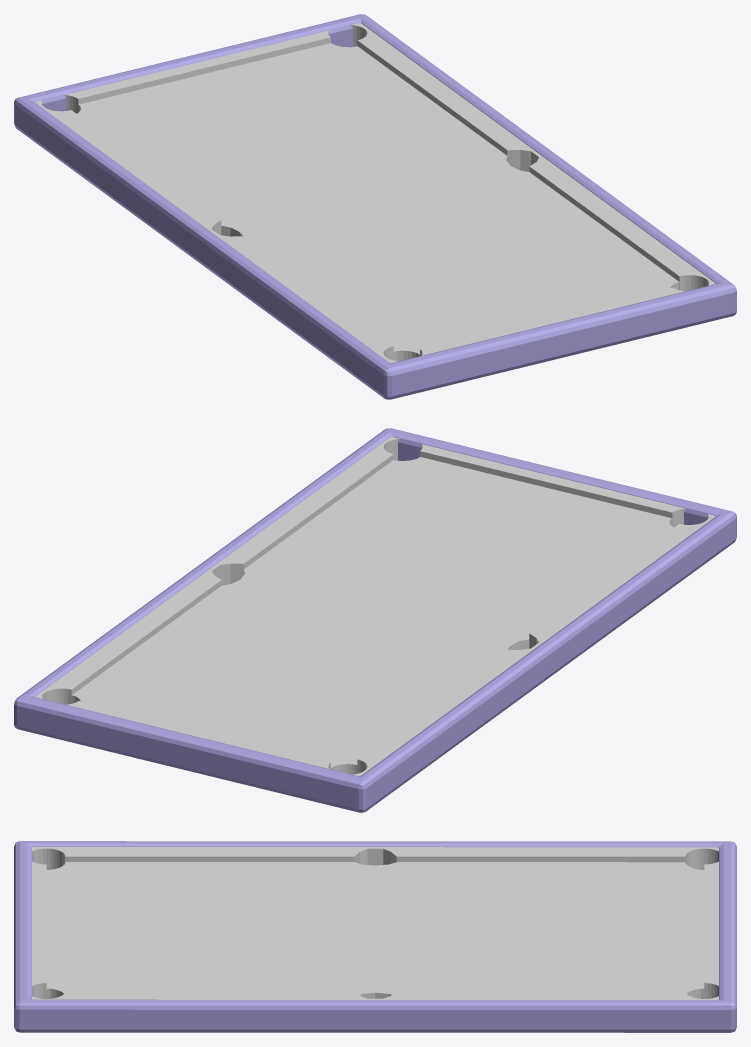
Rendered from BilliardTable.fbx.
The picture shows the model from 3 angles, top to bottom: view 1: azimuth 30°, elevation 25°; view 2: azimuth 150°, elevation 25°; view 3: azimuth 270°, elevation 25°; orthographic projection. The views are drawn at different scales.
Visible parts, largest first — view 1: TableMesh, OutEdgeMesh, Edge; view 2: TableMesh, OutEdgeMesh, Edge; view 3: TableMesh, OutEdgeMesh, Edge.
Part boxes in pixels (left/top/right/bottom): TableMesh: left=77, top=43, right=679, bottom=361; OutEdgeMesh: left=14, top=14, right=736, bottom=399; Edge: left=35, top=23, right=715, bottom=362; TableMesh: left=71, top=457, right=673, bottom=774; OutEdgeMesh: left=14, top=428, right=736, bottom=812; Edge: left=35, top=437, right=715, bottom=775; TableMesh: left=46, top=862, right=704, bottom=998; OutEdgeMesh: left=14, top=841, right=736, bottom=1032; Edge: left=32, top=847, right=718, bottom=999.
Bounding box in the file's own units: 1.41 × 0.1207 × 2.6.
